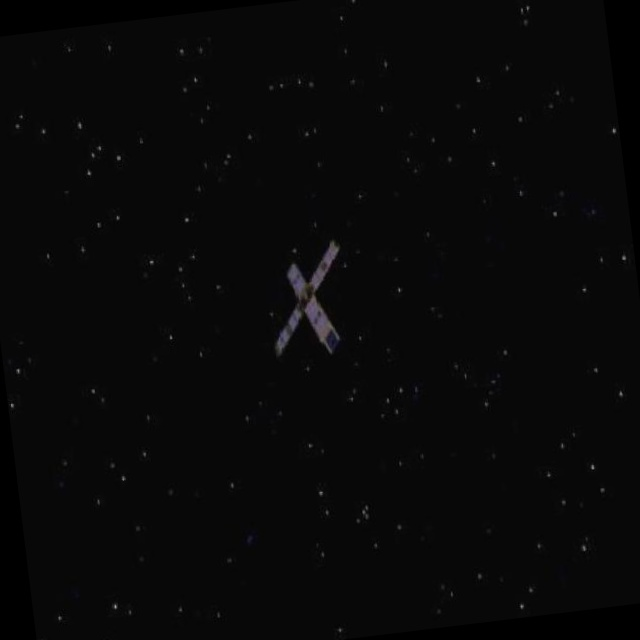medium_debris: (248, 240, 366, 369)
